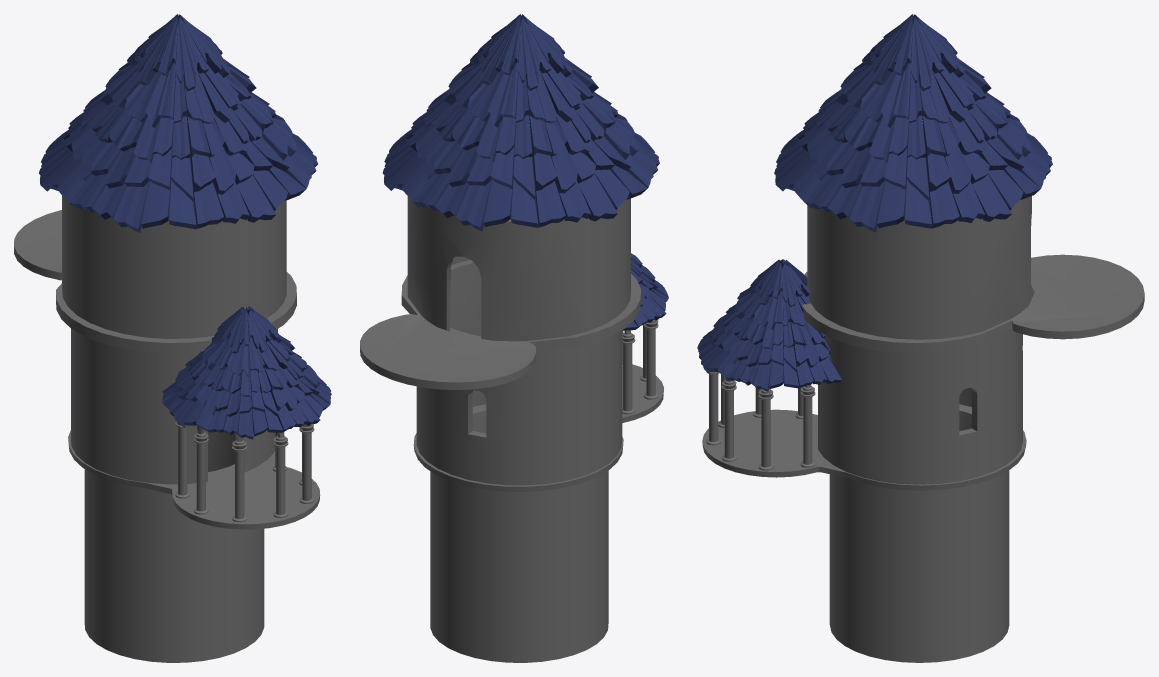
File: Wizard_Tower.fbx
The picture shows the model from 3 angles, left to right: view 1: azimuth 30°, elevation 25°; view 2: azimuth 150°, elevation 25°; view 3: azimuth 270°, elevation 25°; orthographic projection.
Parts seen in each view (by area): view 1: WizardTower.002; view 2: WizardTower.002; view 3: WizardTower.002.
Part boxes in pixels (x1,y1,x2,y2): WizardTower.002: [14, 14, 331, 662]; WizardTower.002: [360, 14, 668, 662]; WizardTower.002: [697, 14, 1144, 662].
Size of the model in its own units: 123 by 301 by 200.
